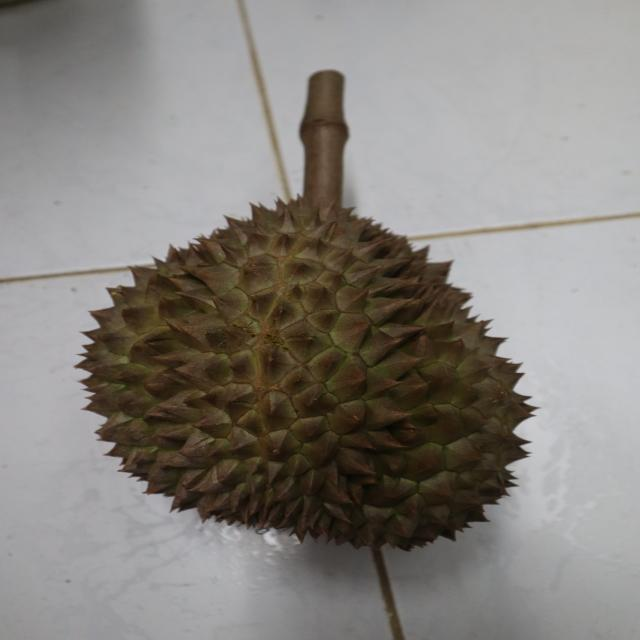mature: (79, 191, 540, 551)
